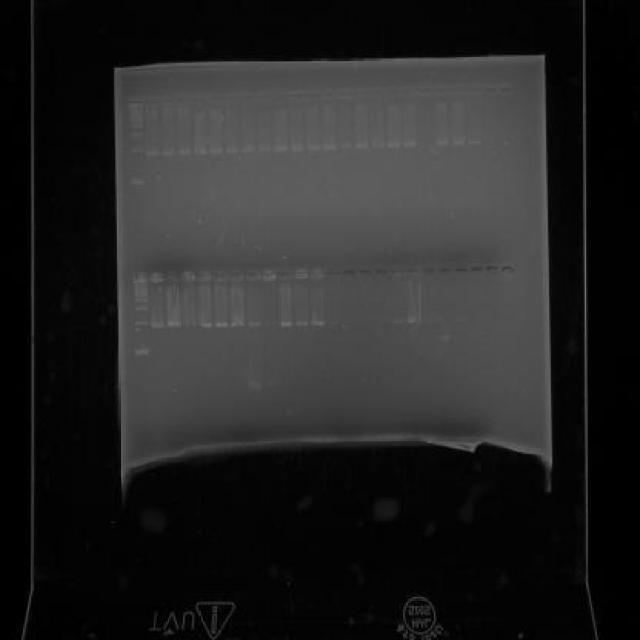B: (310, 319, 326, 327), (406, 316, 422, 324), (402, 140, 418, 148), (273, 145, 289, 153), (256, 146, 272, 154), (450, 139, 466, 147), (467, 137, 481, 146), (248, 320, 262, 328), (230, 321, 246, 328), (278, 320, 292, 328), (294, 319, 308, 327), (390, 317, 404, 325), (454, 314, 468, 322), (146, 150, 160, 158), (162, 148, 176, 156), (386, 142, 400, 150), (354, 143, 368, 151), (322, 144, 336, 152), (209, 147, 223, 155), (224, 146, 238, 154), (240, 146, 254, 154), (434, 139, 448, 147), (214, 322, 229, 329), (150, 322, 164, 329), (166, 321, 180, 328), (199, 322, 213, 329), (370, 143, 386, 149), (289, 146, 305, 152), (338, 144, 353, 150), (193, 148, 207, 154), (306, 144, 320, 150), (178, 150, 191, 156)
L: (124, 78, 516, 112), (128, 258, 520, 288)
M: (125, 116, 148, 192), (130, 292, 153, 363)
P: (128, 176, 146, 187), (133, 348, 150, 357), (129, 146, 143, 154), (129, 130, 143, 138), (134, 320, 148, 326), (134, 306, 148, 312), (134, 298, 148, 304), (129, 123, 143, 129), (129, 120, 143, 123)
Pc: (160, 95, 176, 108), (422, 264, 438, 276), (246, 269, 260, 282), (501, 264, 516, 276), (133, 273, 149, 284), (261, 269, 277, 280), (293, 269, 309, 280), (128, 98, 144, 109), (352, 89, 368, 100), (401, 87, 417, 98), (240, 93, 256, 104), (180, 270, 194, 282), (214, 270, 228, 282), (229, 270, 243, 282), (310, 268, 324, 280), (438, 264, 452, 276), (370, 88, 384, 100), (224, 93, 239, 104), (321, 90, 336, 101), (484, 264, 500, 274), (150, 272, 164, 283), (278, 269, 292, 280), (144, 97, 158, 108), (338, 89, 352, 100), (466, 85, 480, 96), (306, 91, 320, 102), (482, 85, 498, 94), (288, 93, 304, 102), (272, 92, 288, 101), (166, 272, 180, 282), (198, 272, 212, 282), (326, 268, 340, 278), (454, 264, 468, 274), (470, 264, 484, 274), (418, 87, 433, 96), (256, 94, 272, 102), (342, 268, 356, 277), (358, 268, 372, 277), (374, 267, 388, 276), (390, 267, 404, 276), (407, 267, 421, 276), (176, 97, 190, 106), (192, 96, 206, 105), (208, 95, 222, 104), (386, 89, 400, 98), (498, 84, 512, 93), (450, 86, 464, 95), (434, 87, 448, 96)
